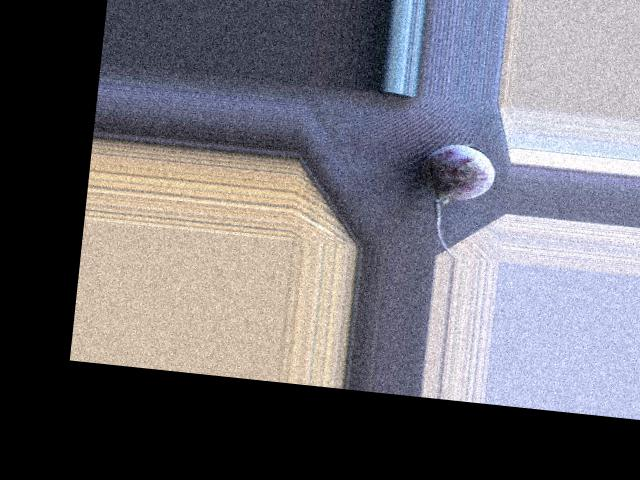beet: (413, 141, 496, 260)
